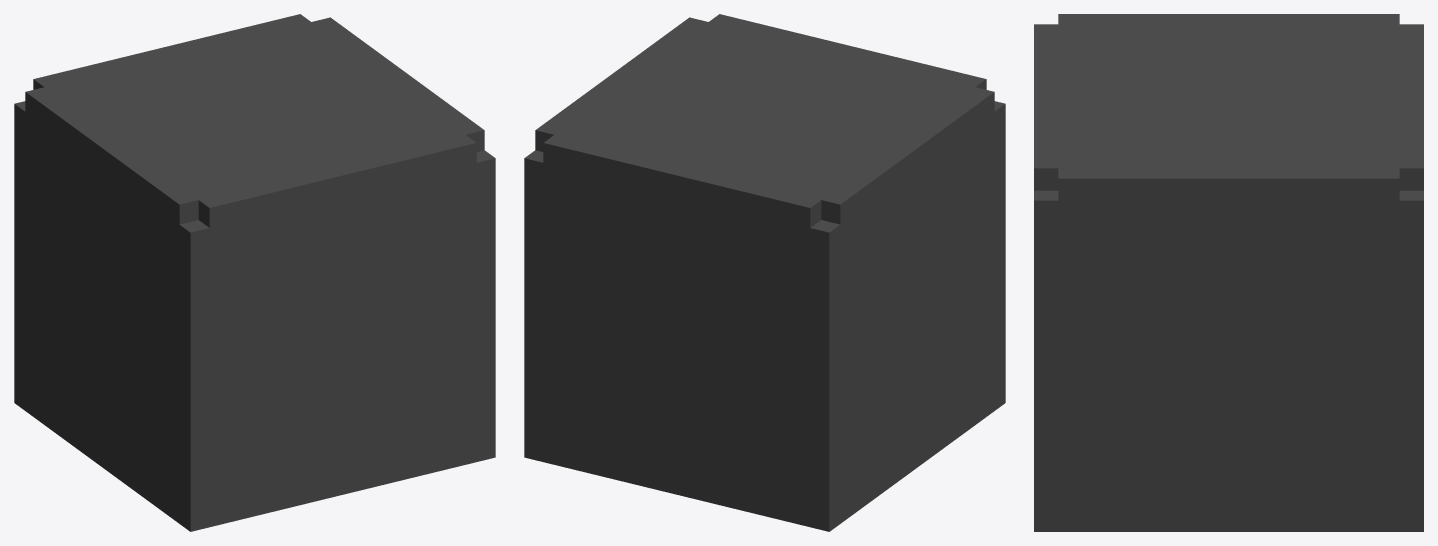
Rendered from Moyou2.obj.
3 renders of one model, left to right at view 1: azimuth 30°, elevation 25°; view 2: azimuth 150°, elevation 25°; view 3: azimuth 270°, elevation 25°, orthographic. The views are drawn at different scales.
Parts seen in each view (by area): view 1: Moyou2; view 2: Moyou2; view 3: Moyou2.
Boxes of the visible parts, x1,y1,x2,y2 form: Moyou2: (14, 14, 495, 531); Moyou2: (524, 14, 1005, 531); Moyou2: (1034, 14, 1423, 531).
Bounding box in the file's own units: 16 × 16 × 16.
Materials: 1 (1 with a texture image).
